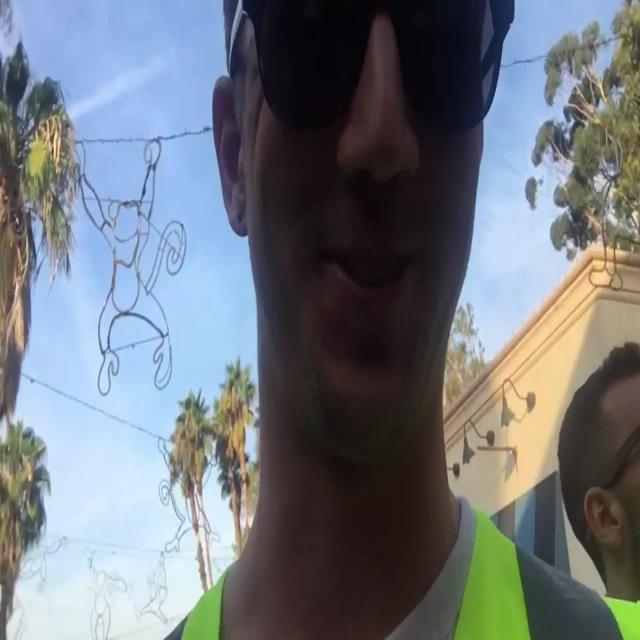Reflective-Jacket: (168, 478, 542, 640)
